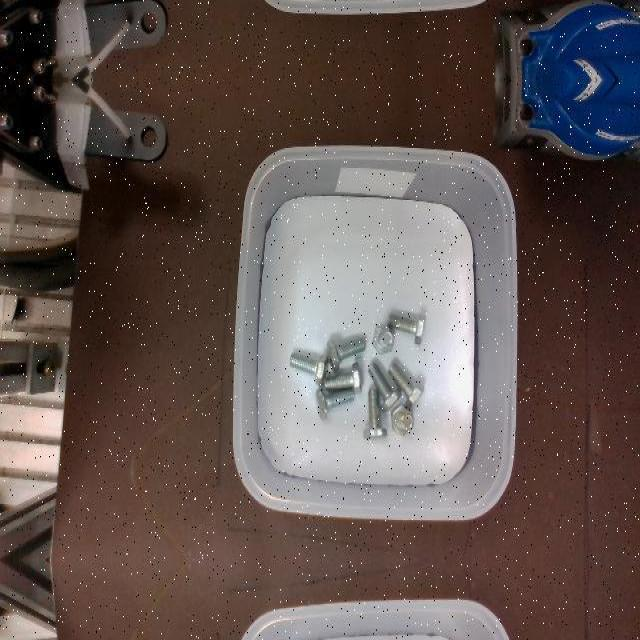screw: (387, 362, 424, 410), (367, 361, 401, 413), (326, 337, 365, 371), (290, 351, 329, 385), (315, 387, 354, 421), (387, 313, 425, 347), (363, 388, 388, 438), (325, 362, 362, 394), (391, 402, 414, 436), (371, 325, 395, 355)
